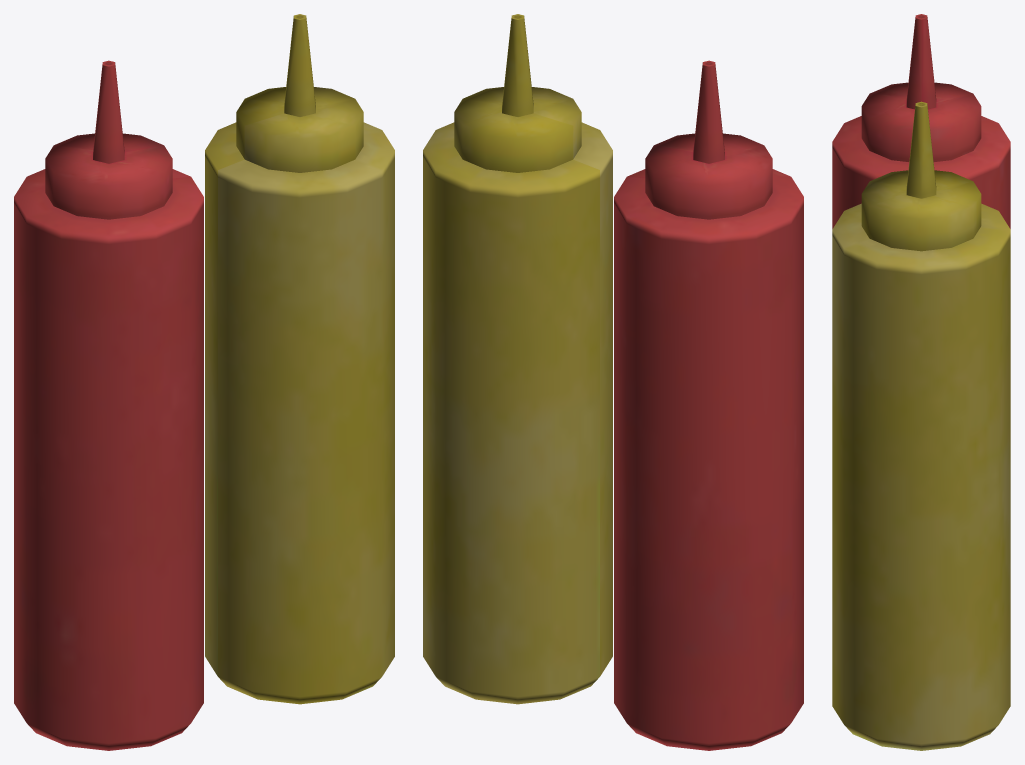
The model's file is sm24_014_saucebottle01a.fbx.
3 views of the same model, side by side, from view 1: azimuth 30°, elevation 25°; view 2: azimuth 150°, elevation 25°; view 3: azimuth 270°, elevation 25° (orthographic). The views are drawn at different scales.
Parts seen in each view (by area): view 1: LOD_1_Group_0_Sub_1__sm24_014_sauceBottle01A_A_Mat; view 2: LOD_1_Group_0_Sub_1__sm24_014_sauceBottle01A_A_Mat; view 3: LOD_1_Group_0_Sub_1__sm24_014_sauceBottle01A_A_Mat.
Part boxes in pixels (x1=…): LOD_1_Group_0_Sub_1__sm24_014_sauceBottle01A_A_Mat: x1=14, y1=14, x2=394, y2=750; LOD_1_Group_0_Sub_1__sm24_014_sauceBottle01A_A_Mat: x1=423, y1=14, x2=803, y2=750; LOD_1_Group_0_Sub_1__sm24_014_sauceBottle01A_A_Mat: x1=832, y1=14, x2=1010, y2=750.
Bounding box in the file's own units: 0.1992 × 0.349 × 0.0921.
